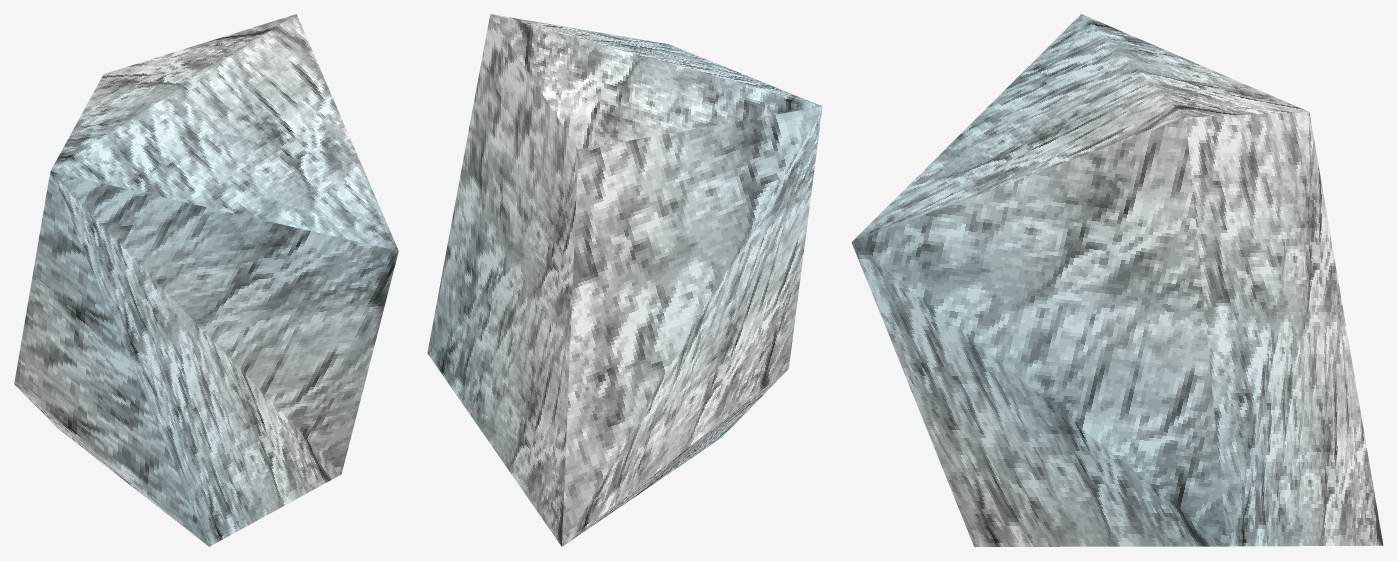
Rendered from uvmd-0263.glb.
The picture shows the model from 3 angles, left to right: view 1: azimuth 30°, elevation 25°; view 2: azimuth 150°, elevation 25°; view 3: azimuth 270°, elevation 25°; orthographic projection. The views are drawn at different scales.
Parts seen in each view (by area): view 1: uvmd-0263; view 2: uvmd-0263; view 3: uvmd-0263.
Part boxes in pixels (x1,y1,x2,y2): uvmd-0263: (14,14,398,546); uvmd-0263: (427,14,822,546); uvmd-0263: (851,14,1383,546).
Bounding box in the file's own units: 1533 × 1914 × 1768.
1 material, 1 textured.
